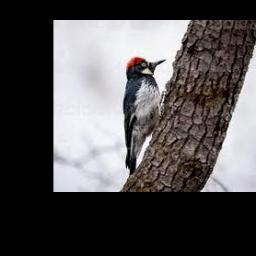Woodpecker: (123, 56, 167, 176)
